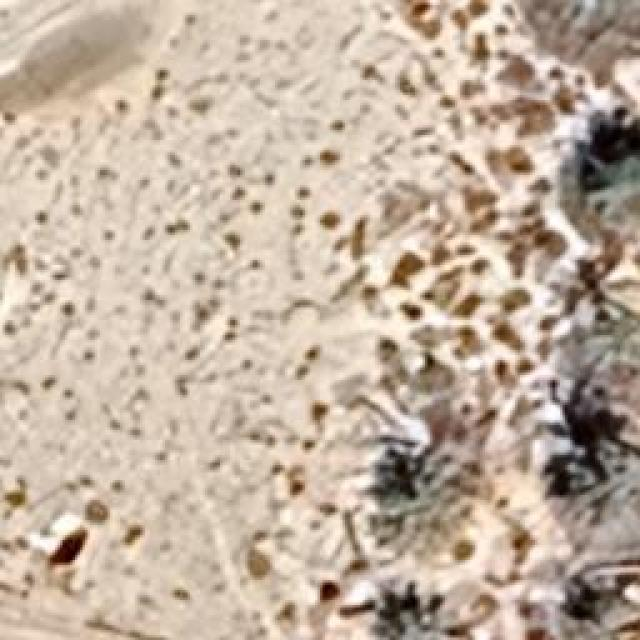PalmTree: (366, 448, 469, 542), (556, 109, 640, 219), (569, 268, 640, 374), (564, 438, 638, 530), (555, 562, 640, 640), (367, 580, 455, 640)
